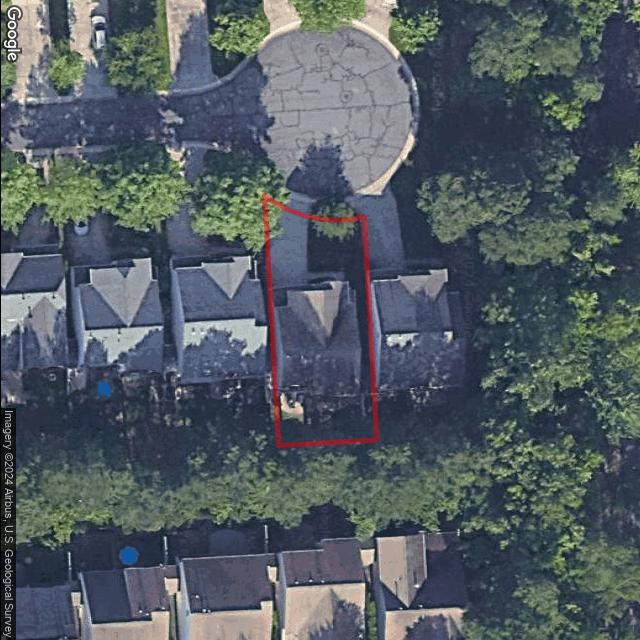Driveway: (265, 196, 308, 293)
Extra-Driveway: (277, 188, 310, 217)
Extra-Lawn: (308, 197, 357, 221), (261, 181, 283, 203)
House: (270, 279, 358, 400)
Lawn: (264, 195, 375, 447)
Other: (279, 399, 302, 422)
Sidewalk: (305, 271, 343, 282)
